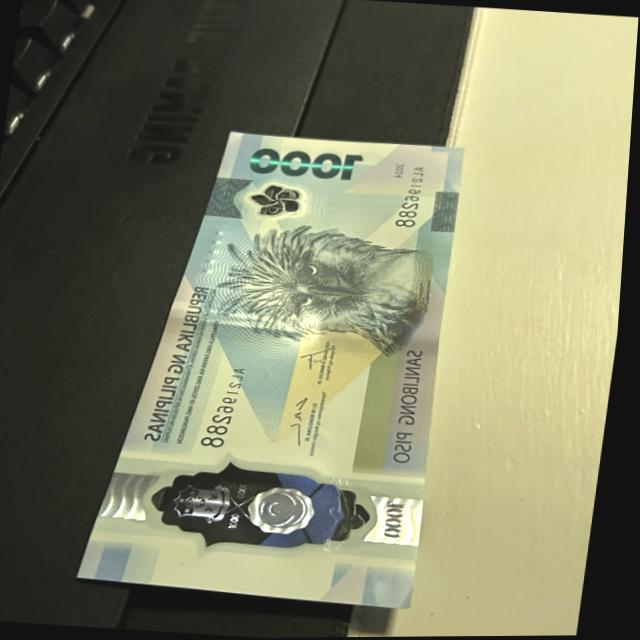clear_window: (161, 459, 366, 551)
eagle: (215, 229, 432, 349)
sampaguita: (248, 181, 306, 219)
